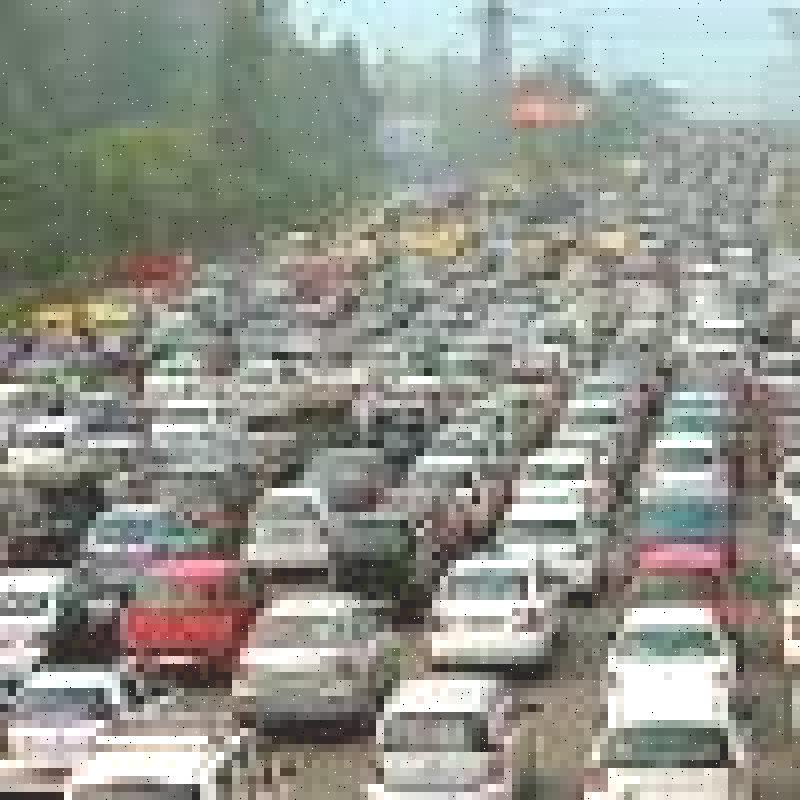car: (1, 665, 152, 800), (376, 671, 526, 800), (228, 596, 368, 727), (565, 720, 759, 800), (578, 602, 752, 682), (431, 558, 561, 661), (236, 493, 386, 569), (630, 433, 750, 514), (510, 493, 594, 563)
